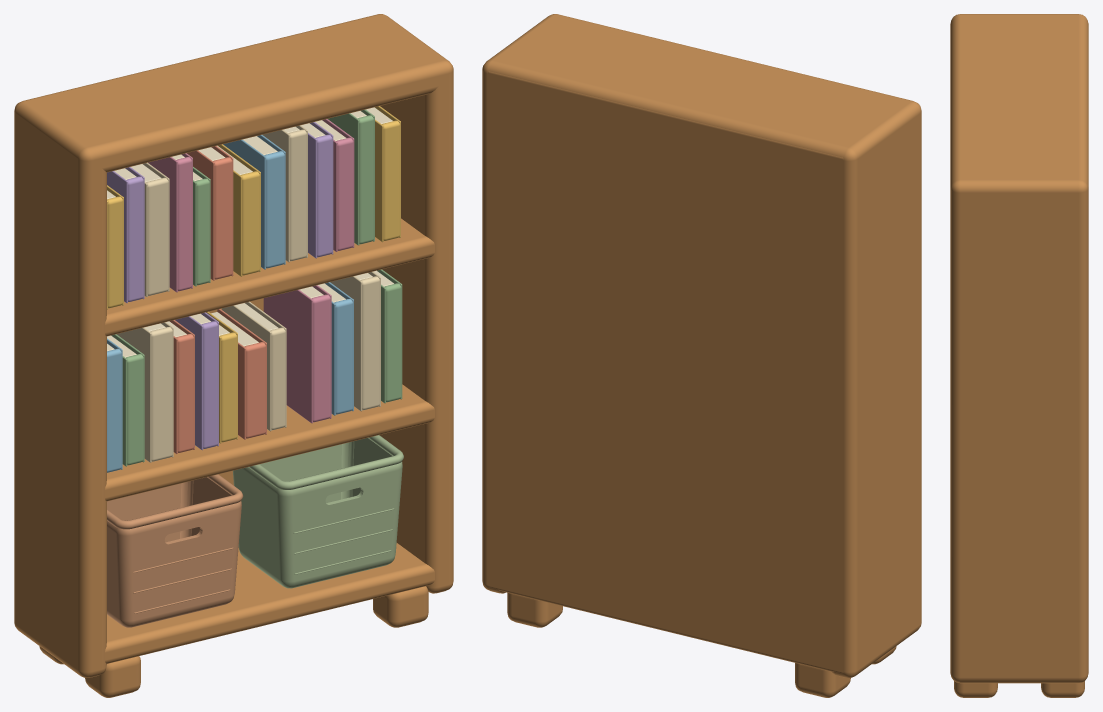
File: bookshelf.glb
The picture shows the model from 3 angles, left to right: view 1: azimuth 30°, elevation 25°; view 2: azimuth 150°, elevation 25°; view 3: azimuth 270°, elevation 25°; orthographic projection. The views are drawn at different scales.
Visible parts, largest first — view 1: Left rounded upright_export, Thick rounded crown_export, Right rounded upright_export, Right storage basket body_export, Left storage basket body_export, Bottom shelf_export, Middle shelf_export, Upper shelf_export, Middle book 09 cover_export, Middle book 03 rounded spine_export, Middle book 11 rounded spine_export, Upper book 03 rounded spine_export (+40 smaller); view 2: Solid finished maple back_export, Left rounded upright_export, Thick rounded crown_export, Right rounded upright_export, Short rounded maple foot.003_export, Short rounded maple foot.001_export; view 3: Right rounded upright_export, Thick rounded crown_export, Short rounded maple foot.002_export, Short rounded maple foot.003_export.
Part boxes in pixels (left/top/right/bottom): Left rounded upright_export: left=14, top=102, right=106, bottom=677; Thick rounded crown_export: left=15, top=14, right=453, bottom=172; Right rounded upright_export: left=379, top=63, right=453, bottom=593; Right storage basket body_export: left=233, top=438, right=402, bottom=588; Left storage basket body_export: left=107, top=477, right=241, bottom=627; Bottom shelf_export: left=105, top=543, right=434, bottom=663; Middle shelf_export: left=105, top=384, right=434, bottom=501; Upper shelf_export: left=105, top=218, right=434, bottom=336; Middle book 09 cover_export: left=263, top=289, right=312, bottom=423; Middle book 03 rounded spine_export: left=150, top=327, right=172, bottom=461; Middle book 11 rounded spine_export: left=359, top=276, right=380, bottom=410; Upper book 03 rounded spine_export: left=146, top=177, right=168, bottom=295; Solid finished maple back_export: left=488, top=71, right=843, bottom=673; Left rounded upright_export: left=831, top=102, right=921, bottom=677; Thick rounded crown_export: left=484, top=14, right=920, bottom=170; Right rounded upright_export: left=482, top=19, right=543, bottom=593; Short rounded maple foot.003_export: left=507, top=592, right=562, bottom=627; Short rounded maple foot.001_export: left=795, top=663, right=850, bottom=697; Right rounded upright_export: left=950, top=178, right=1088, bottom=683; Thick rounded crown_export: left=950, top=14, right=1088, bottom=202; Short rounded maple foot.002_export: left=954, top=681, right=997, bottom=697; Short rounded maple foot.003_export: left=1041, top=681, right=1084, bottom=697.
Bounding box in the file's own units: 0.95 × 1.35 × 0.32.
